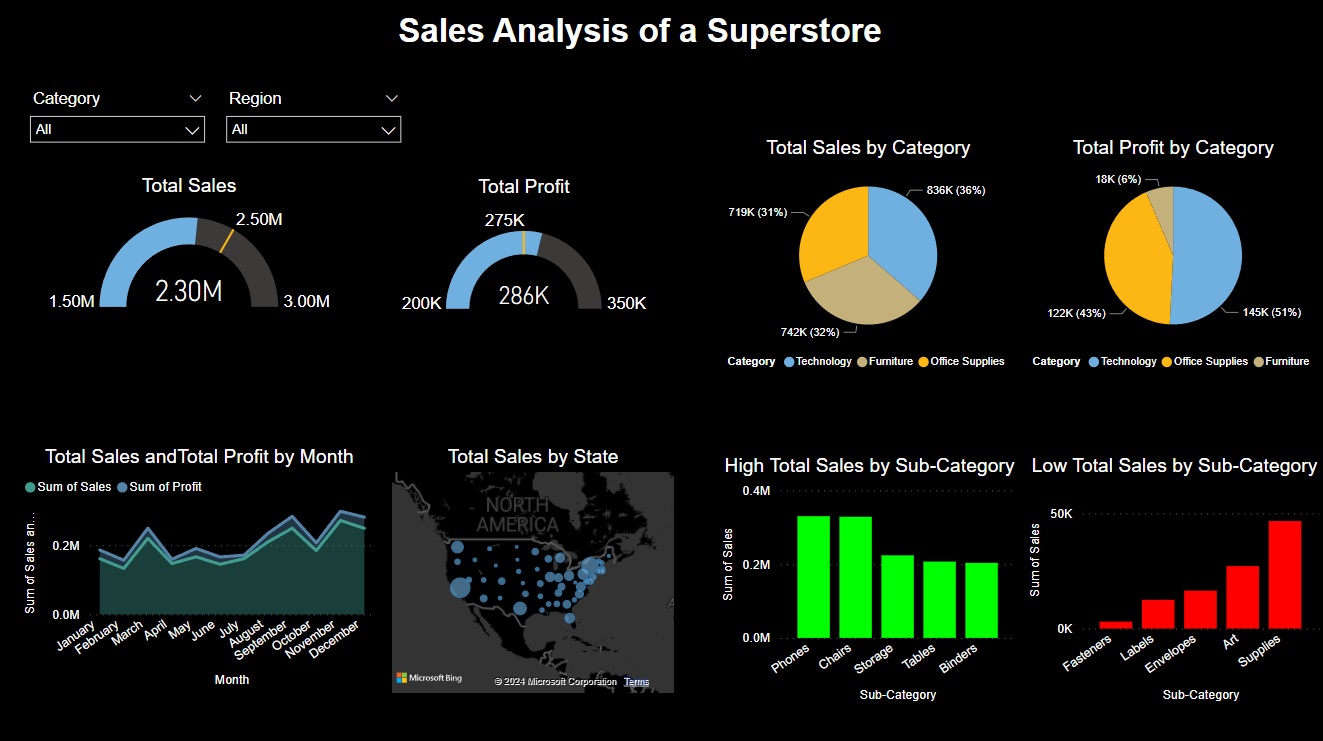

Layout of this report page (visuals, bound fields, positions):
{"tool":"powerbi","page":{"name":"Page 1","canvas":[1280,720],"ordinal":0},"visuals":[{"type":"pieChart","title":"Total Sales by Category","fields":{"Category":["Sample - Superstore.Category"],"Y":["Sum(Sample - Superstore.Sales)"]},"box":[692.5,135,295,235],"z":0},{"type":"pieChart","title":"Total Profit by Category","fields":{"Category":["Sample - Superstore.Category"],"Y":["Sum(Sample - Superstore.Profit)"]},"box":[987.5,135,292.5,235],"z":1000},{"type":"clusteredColumnChart","title":"High Total Sales by Sub-Category","fields":{"Category":["Sample - Superstore.Sub-Category"],"Y":["Sum(Sample - Superstore.Sales)"]},"box":[695,441,292.5,243.8],"z":2000},{"type":"gauge","title":"Total Sales","fields":{"Y":["Sum(Sample - Superstore.Sales)"]},"box":[38.6,171.4,291.4,138.6],"z":3000},{"type":"stackedAreaChart","title":"Total Sales andTotal Profit by Month","fields":{"Y":["Sum(Sample - Superstore.Sales)","Sum(Sample - Superstore.Profit)"],"Category":["Sample - Superstore.Order Date.Variation.Date Hierarchy.Month"]},"box":[20,433.3,347.5,237.5],"z":4000},{"type":"gauge","title":"Total Profit","fields":{"Y":["Sum(Sample - Superstore.Profit)"]},"box":[361.4,172.9,291.4,138.6],"z":5000},{"type":"clusteredColumnChart","title":"Low Total Sales by Sub-Category","fields":{"Category":["Sample - Superstore.Sub-Category"],"Y":["Sum(Sample - Superstore.Sales)"]},"box":[990,441,290,243.8],"z":6000},{"type":"map","title":"Total Sales by State","fields":{"Category":["Sample - Superstore.State"],"Size":["Sum(Sample - Superstore.Sales)"]},"box":[380,432.9,272.9,238.6],"z":7000},{"type":"textbox","box":[381.1,9.6,518.6,59.1],"z":8000},{"type":"slicer","fields":{"Values":["Sample - Superstore.Category"]},"box":[20.6,84.1,189.4,68.6],"z":8001},{"type":"slicer","fields":{"Values":["Sample - Superstore.Region"]},"box":[209.9,84.1,189.4,68.6],"z":8002}]}

Visuals, with their boxes in screenshot pixels (x1, y1, x2, y2), scaled from the page's 1280x720 canvas onto the 1323x741 screenshot:
"Total Sales by Category" pieChart: 716, 139, 1021, 381
"Total Profit by Category" pieChart: 1021, 139, 1322, 381
"High Total Sales by Sub-Category" clusteredColumnChart: 718, 454, 1021, 705
"Total Sales" gauge: 40, 176, 341, 319
"Total Sales andTotal Profit by Month" stackedAreaChart: 21, 446, 380, 690
"Total Profit" gauge: 374, 178, 675, 321
"Low Total Sales by Sub-Category" clusteredColumnChart: 1023, 454, 1322, 705
"Total Sales by State" map: 393, 446, 675, 691
textbox: 394, 10, 930, 71
slicer - Sample - Superstore.Category: 21, 87, 217, 157
slicer - Sample - Superstore.Region: 217, 87, 413, 157
